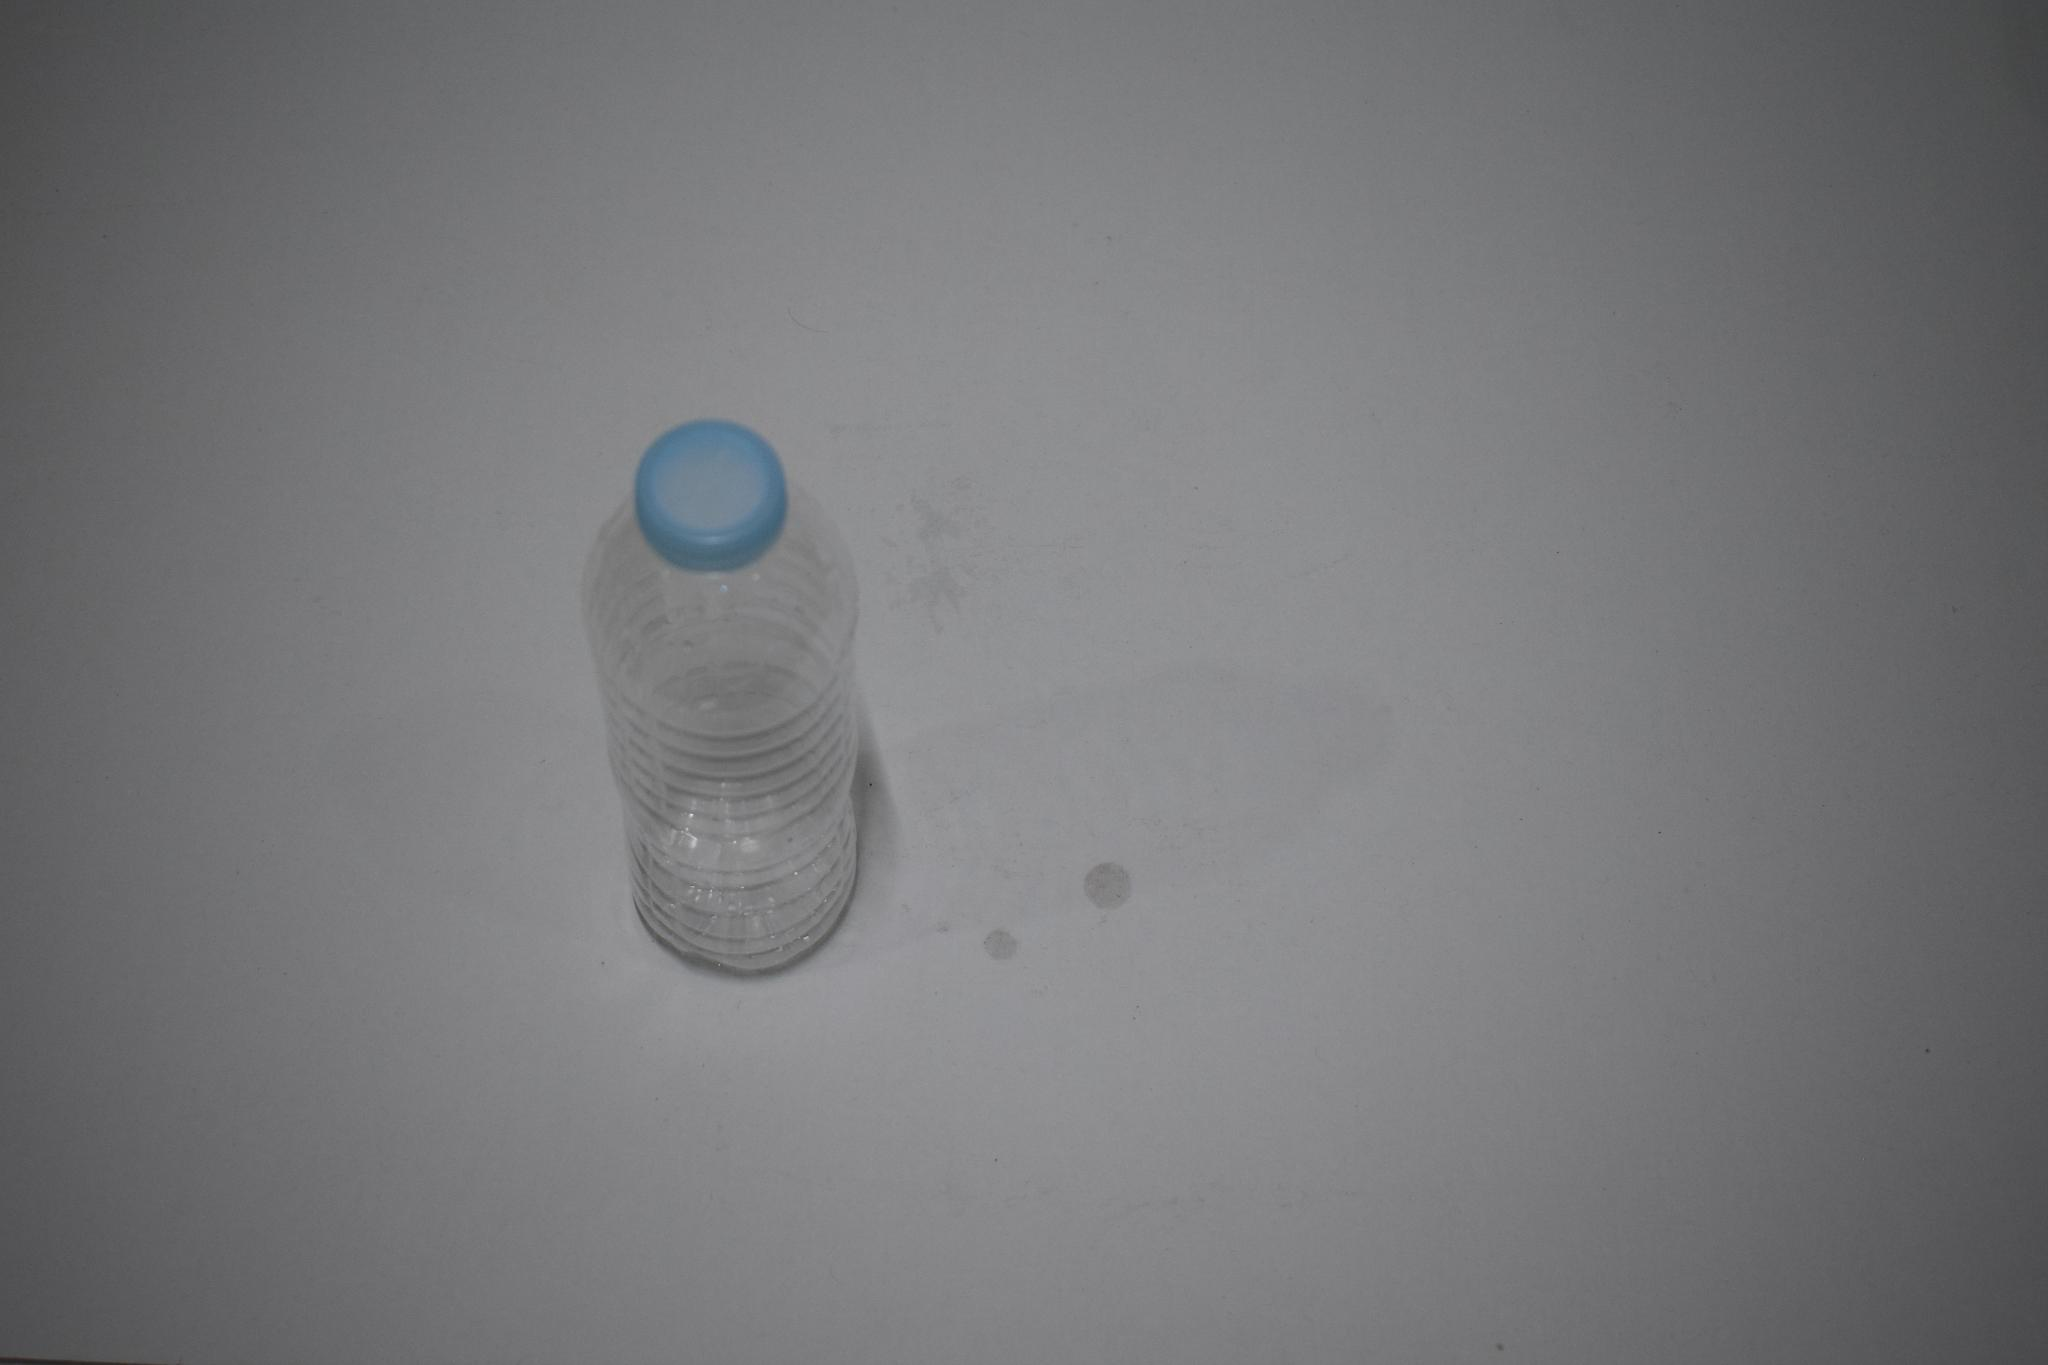bottle: (564, 415, 904, 993)
